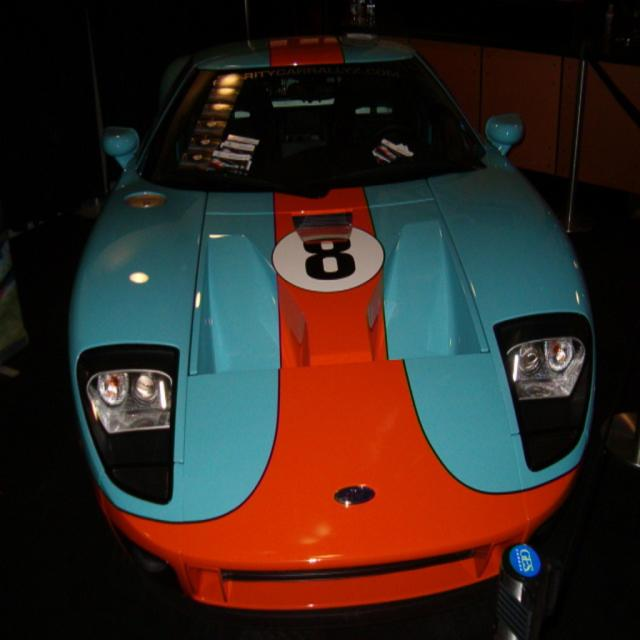car: (55, 20, 608, 616)
